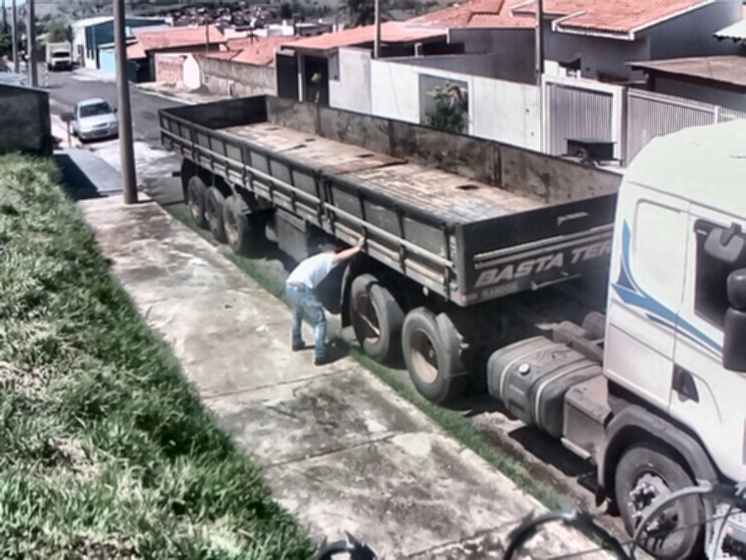person: (280, 235, 370, 368)
